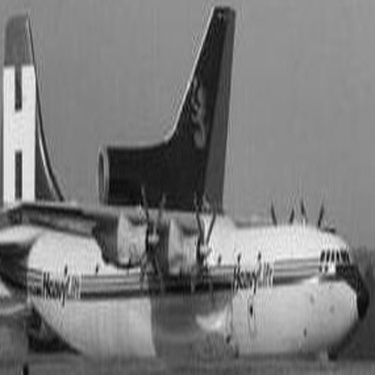airplane: (3, 1, 369, 370), (15, 3, 245, 358)
